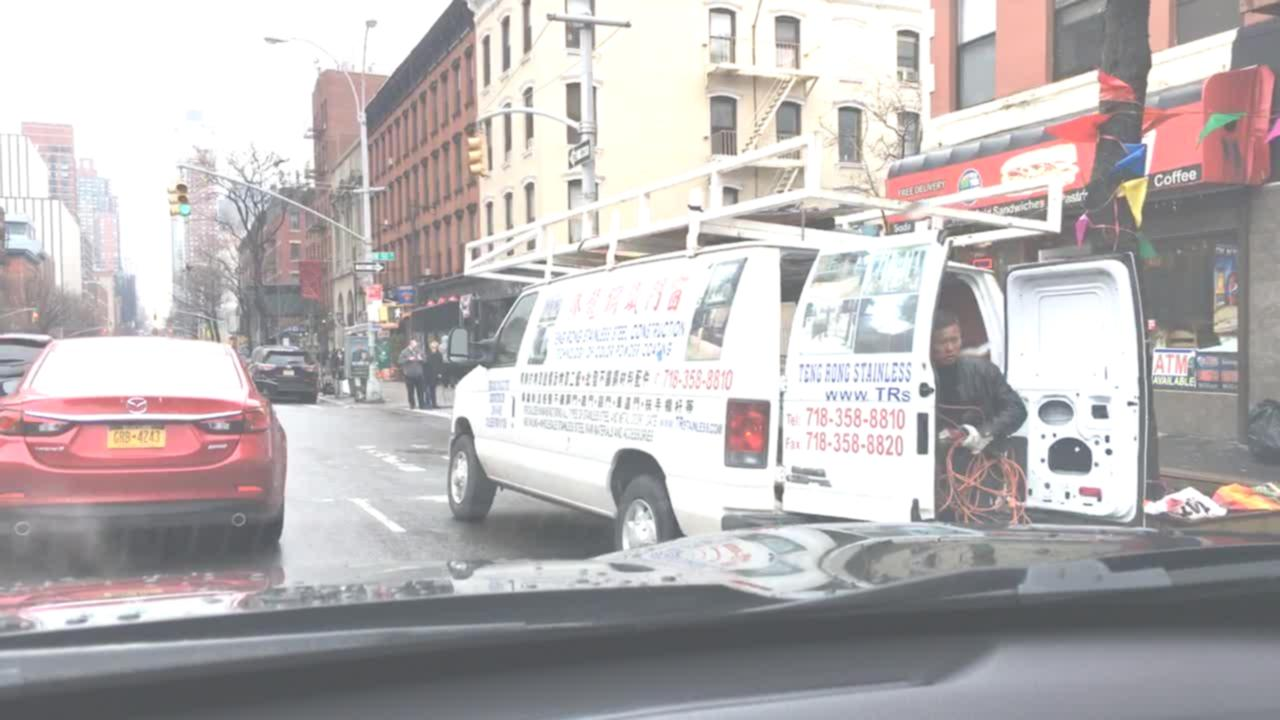Mazda: (117, 389, 158, 418)
